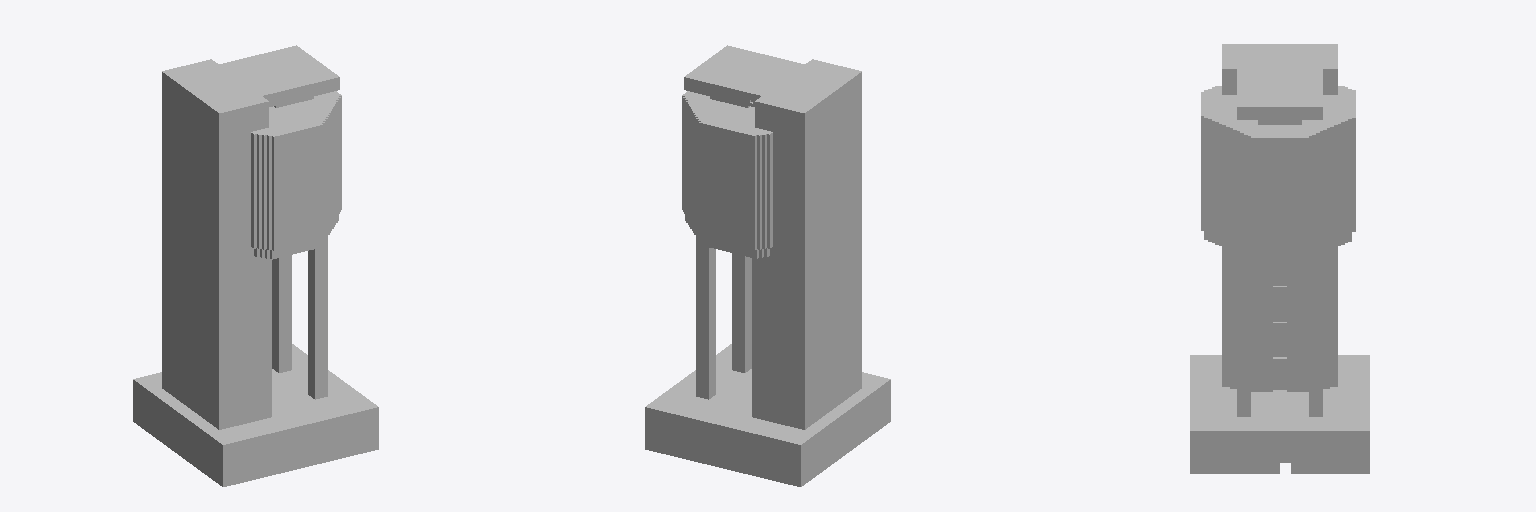
The model's file is Белая Башня.obj.
3 views of the same model, side by side, from view 1: azimuth 30°, elevation 25°; view 2: azimuth 150°, elevation 25°; view 3: azimuth 270°, elevation 25° (orthographic).
Visible parts, largest first — view 1: object 1; view 2: object 1; view 3: object 1.
Part boxes in pixels (x1,y1,x2,y2): object 1: (133,45,378,486); object 1: (645,45,890,486); object 1: (1190,44,1369,473).
Bounding box in the file's own units: 5 × 11 × 5.